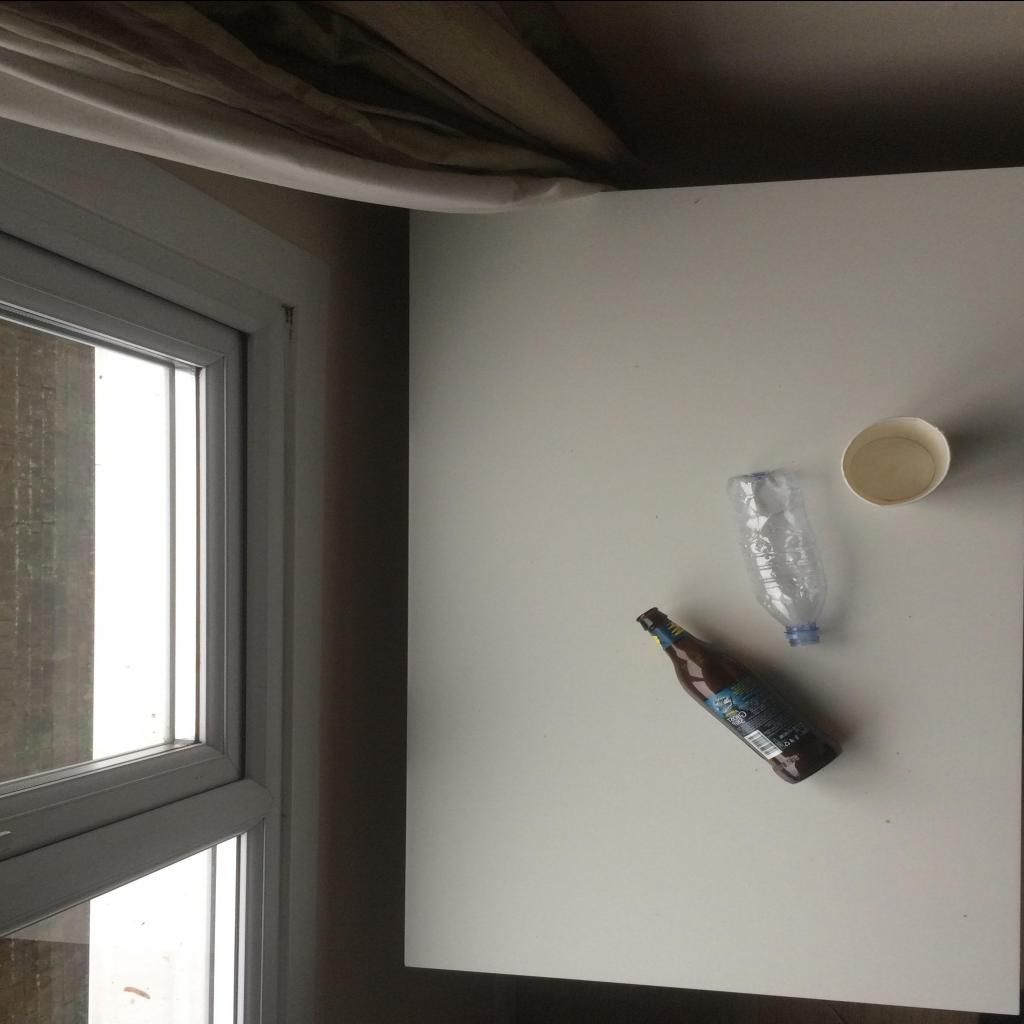Clear plastic bottle: (726, 467, 828, 645)
Glass bottle: (636, 606, 842, 784)
Paper cup: (840, 416, 951, 506)
